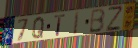7: (16, 17, 30, 43)
B: (88, 7, 106, 34)
I: (72, 10, 81, 36)
Q: (31, 16, 46, 40)
T: (53, 13, 67, 38)
Z: (105, 5, 124, 33)
